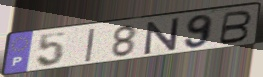5: (36, 30, 67, 68)
8: (110, 24, 139, 58)
9: (183, 13, 216, 50)
B: (216, 9, 254, 47)
I: (83, 28, 97, 64)
N: (143, 17, 181, 57)
